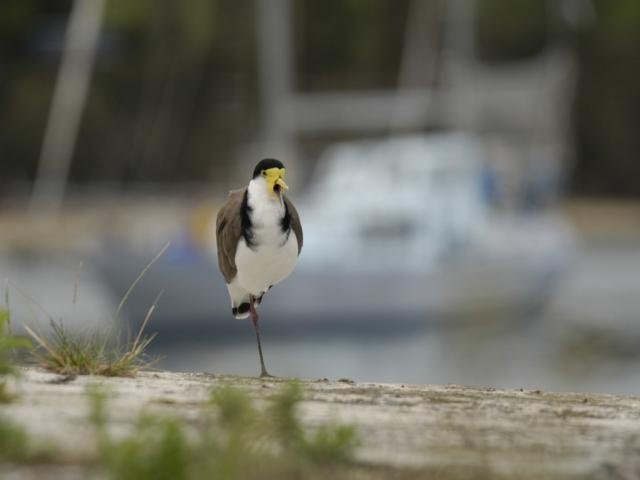Bird: (218, 158, 304, 378)
